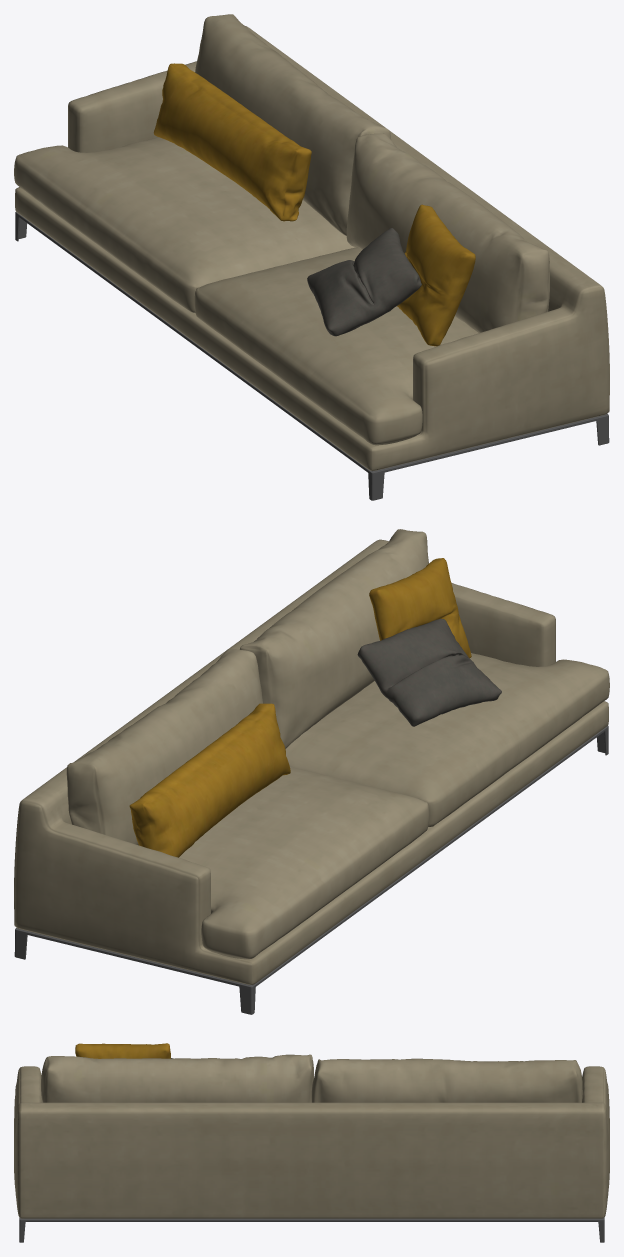
File: double_sofa.glb
The picture shows the model from 3 angles, top to bottom: view 1: azimuth 30°, elevation 25°; view 2: azimuth 150°, elevation 25°; view 3: azimuth 270°, elevation 25°; orthographic projection. The views are drawn at different scales.
Visible parts, largest first — view 1: SM_Sofa; view 2: SM_Sofa; view 3: SM_Sofa.
Part boxes in pixels (x1,y1,x2,y2): SM_Sofa: (14,14,609,500); SM_Sofa: (14,529,609,1014); SM_Sofa: (14,1043,609,1242).
Bounding box in the file's own units: 1 × 0.7771 × 2.61.
4 materials, 3 textured.
